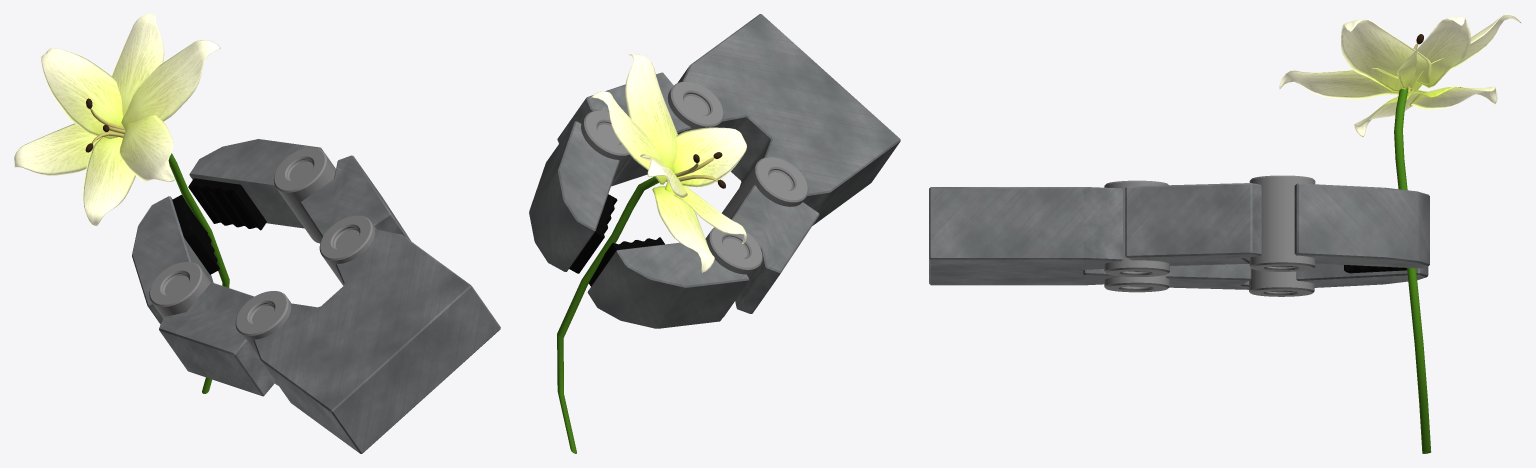
The model's file is steel_flower.gltf.
The picture shows the model from 3 angles, left to right: view 1: azimuth 30°, elevation 25°; view 2: azimuth 150°, elevation 25°; view 3: azimuth 270°, elevation 25°; orthographic projection. The views are drawn at different scales.
Parts seen in each view (by area): view 1: objHand1, objFinger4, objFinger1, objFinger3, objFinger2, Plane.005, Plane.003, Plane.004, Plane.001, Plane.002, Plane, Cylinder; view 2: objHand1, objFinger3, objFinger4, objFinger1, objFinger2, Plane.003, Plane.002, Cylinder, Plane.001, Plane, Plane.004, Plane.005; view 3: objHand1, objFinger4, objFinger2, Plane.003, objFinger3, objFinger1, Cylinder, Plane, Plane.002, Plane.001, Plane.005, Plane.004.
Boxes of the visible parts, bbox=[...] form: objHand1: bbox=[253, 229, 500, 453]; objFinger4: bbox=[188, 139, 335, 243]; objFinger1: bbox=[159, 282, 291, 396]; objFinger3: bbox=[132, 195, 219, 324]; objFinger2: bbox=[300, 155, 411, 285]; Plane.005: bbox=[41, 48, 123, 139]; Plane.003: bbox=[121, 40, 220, 129]; Plane.004: bbox=[82, 133, 135, 226]; Plane.001: bbox=[14, 123, 101, 175]; Plane.002: bbox=[119, 115, 174, 181]; Plane: bbox=[111, 14, 164, 116]; Cylinder: bbox=[168, 153, 229, 393]; objHand1: bbox=[677, 14, 900, 225]; objFinger3: bbox=[587, 227, 762, 328]; objFinger4: bbox=[529, 110, 630, 273]; objFinger1: bbox=[722, 157, 819, 313]; objFinger2: bbox=[557, 72, 723, 186]; Plane.003: bbox=[625, 54, 677, 172]; Plane.002: bbox=[673, 127, 746, 187]; Cylinder: bbox=[557, 176, 667, 453]; Plane.001: bbox=[652, 186, 714, 272]; Plane: bbox=[591, 91, 667, 184]; Plane.004: bbox=[665, 179, 746, 243]; Plane.005: bbox=[640, 154, 687, 197]; objHand1: bbox=[929, 187, 1122, 285]; objFinger4: bbox=[1249, 175, 1429, 271]; objFinger2: bbox=[1104, 180, 1261, 276]; Plane.003: bbox=[1341, 19, 1431, 92]; objFinger3: bbox=[1249, 263, 1428, 296]; objFinger1: bbox=[1104, 264, 1251, 292]; Cylinder: bbox=[1394, 88, 1431, 453]; Plane: bbox=[1397, 16, 1471, 89]; Plane.002: bbox=[1279, 68, 1408, 99]; Plane.001: bbox=[1408, 86, 1497, 109]; Plane.005: bbox=[1408, 14, 1521, 93]; Plane.004: bbox=[1354, 89, 1426, 137].
Size of the model in its own units: 2.01 by 2.82 by 3.61.
7 materials, 2 textured.
